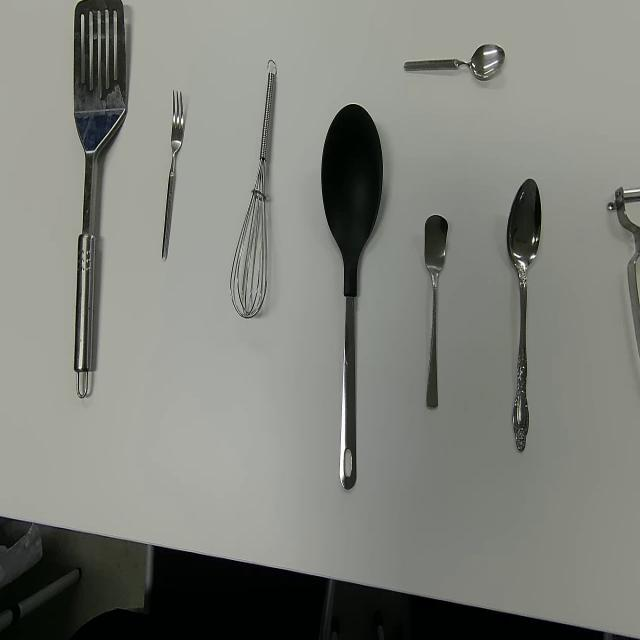Desert-Spoon: (506, 177, 542, 454)
Dinner-Fork: (160, 89, 184, 263)
Peeler: (606, 182, 640, 358)
Serving-Spoon: (319, 102, 383, 491), (72, 0, 128, 401)
Tea-Spoon: (423, 214, 449, 412), (402, 41, 506, 82)
Whisk: (229, 58, 278, 320)
